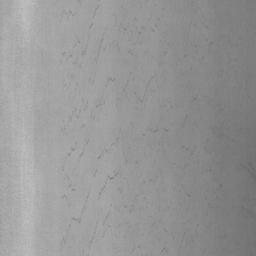Silk spot: (98, 169, 121, 200), (240, 162, 256, 181), (69, 108, 85, 121), (72, 216, 81, 224)
